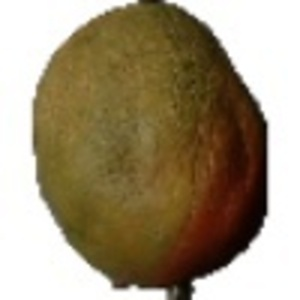mamão: (27, 2, 275, 289)
